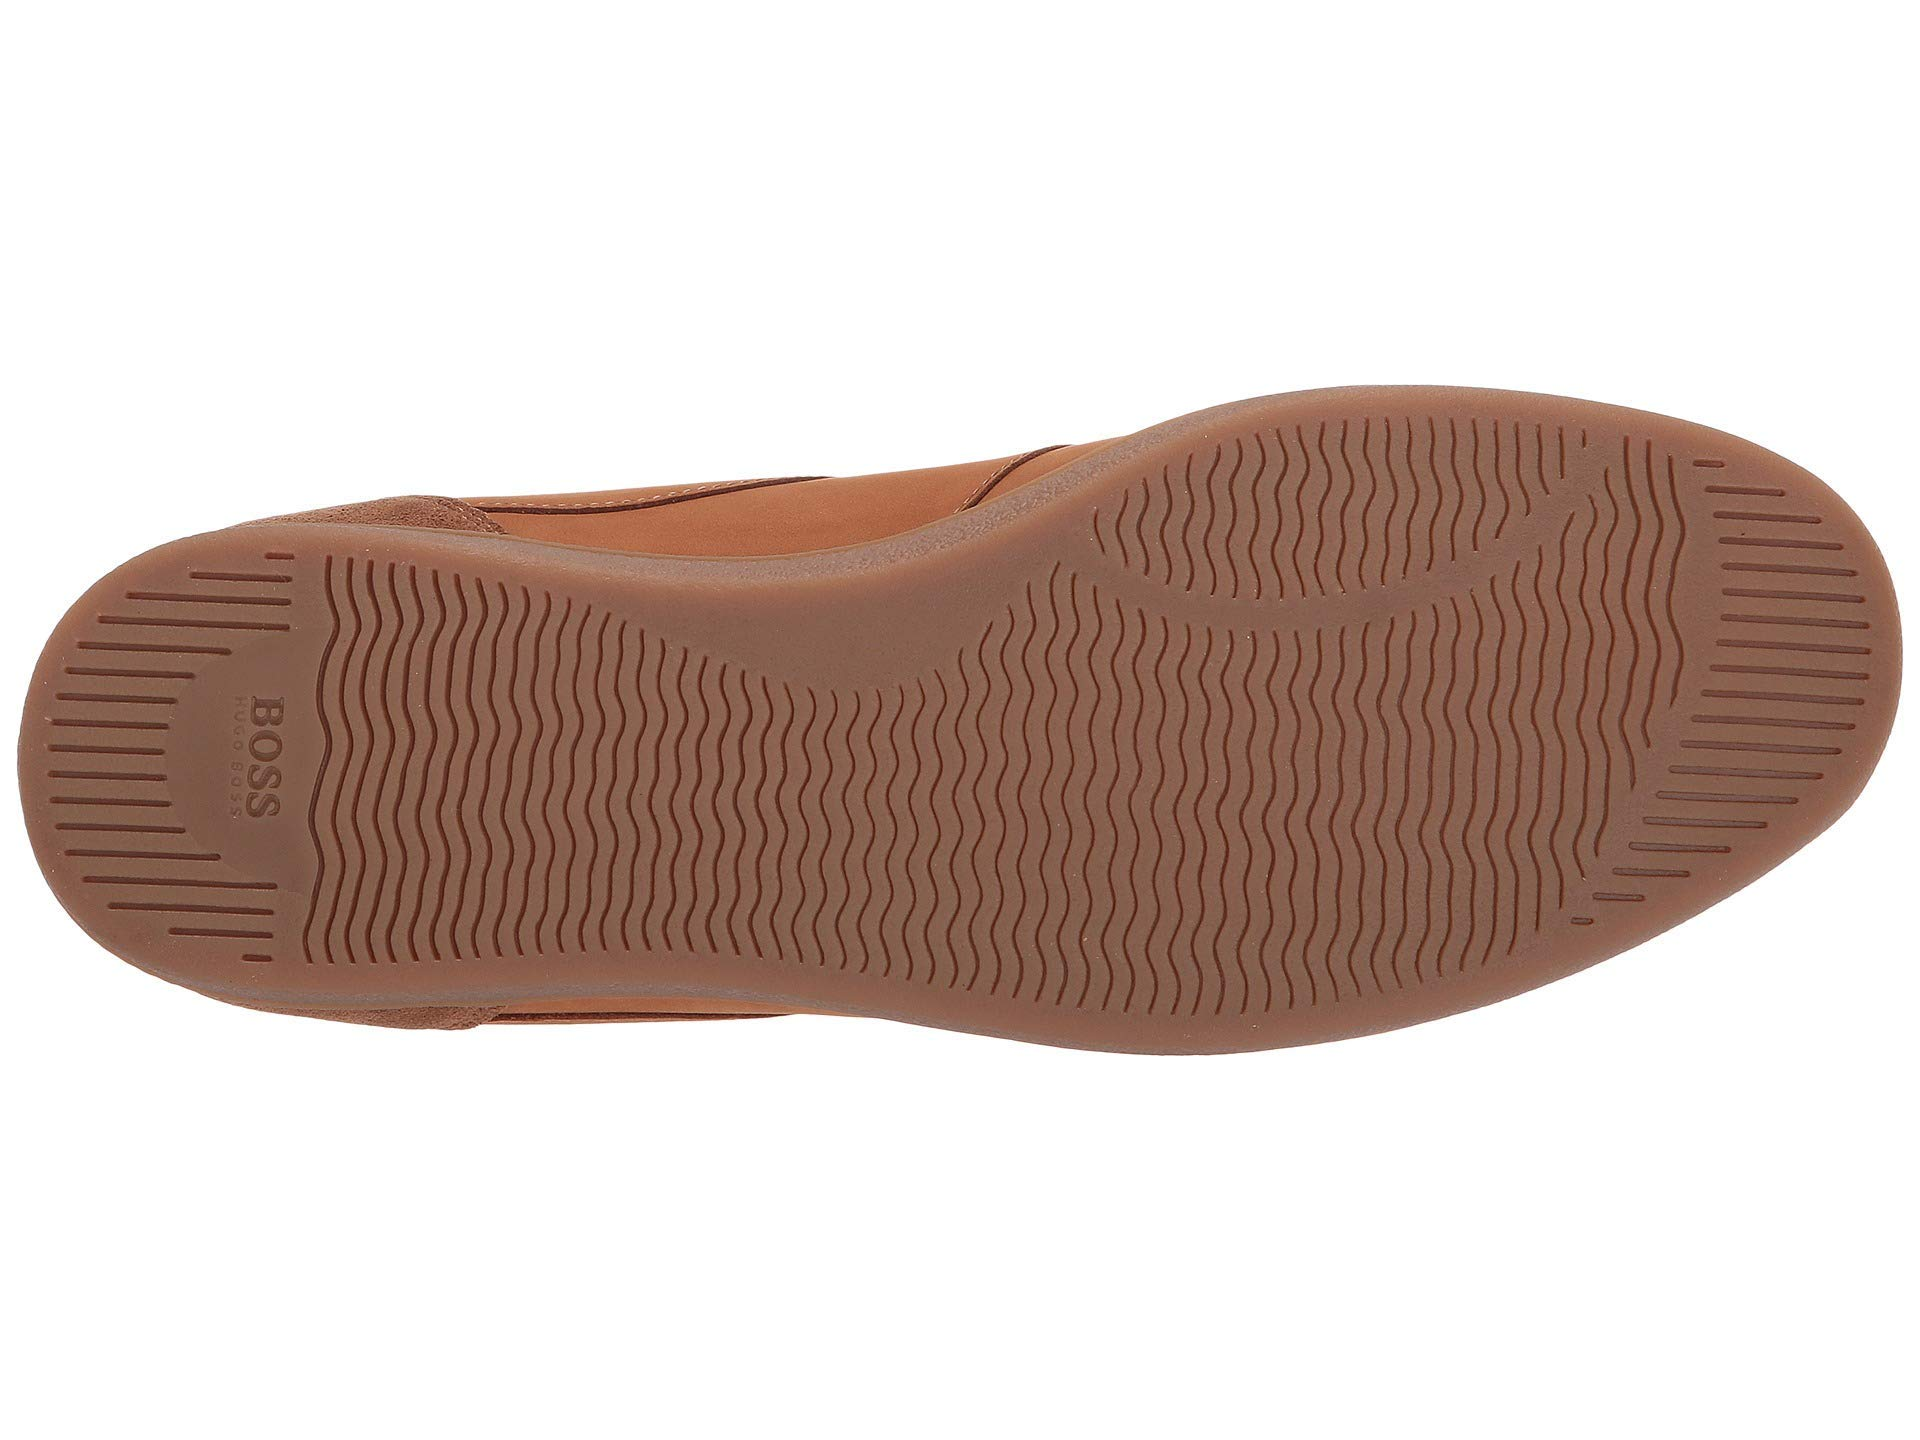chevron: (1349, 467, 1853, 861)
circle: (67, 619, 304, 944)
line: (1349, 467, 1853, 861), (67, 619, 304, 944)
text: (67, 619, 304, 944)
